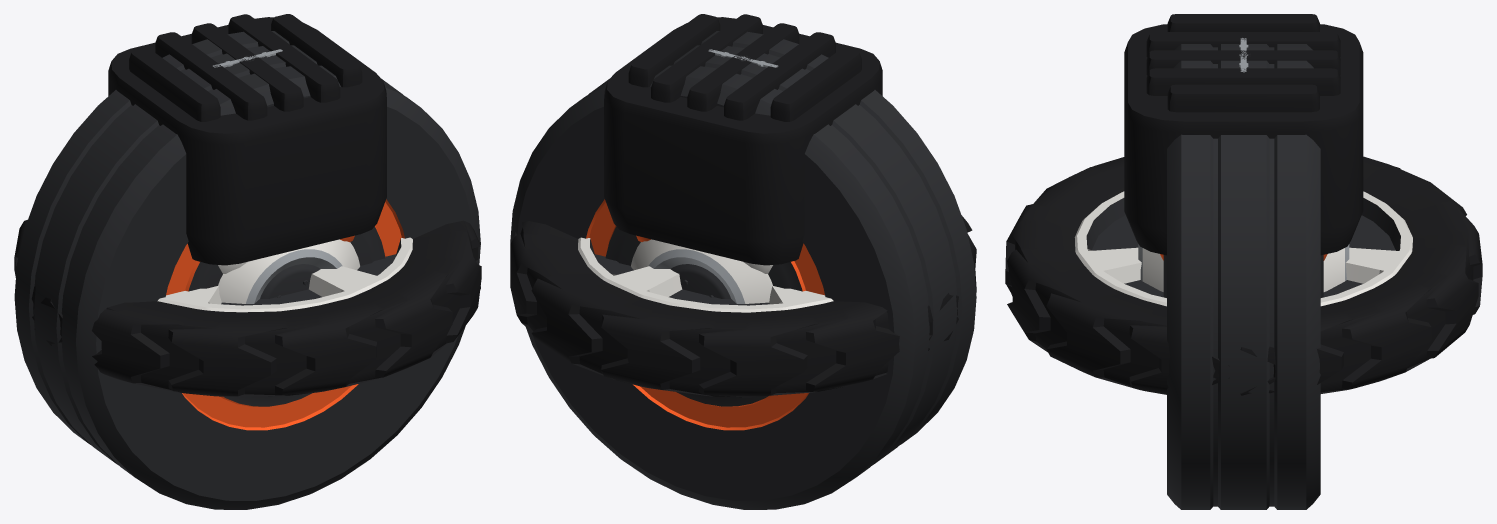
File: kit.glb
3 views of the same model, side by side, from view 1: azimuth 30°, elevation 25°; view 2: azimuth 150°, elevation 25°; view 3: azimuth 270°, elevation 25° (orthographic). The views are drawn at different scales.
Parts seen in each view (by area): view 1: joint, foot, wheel, core_orb; view 2: joint, foot, wheel, core_orb; view 3: joint, wheel, foot, core_orb.
Boxes of the visible parts, bbox=[...] form: joint: bbox=[14, 31, 480, 509]; foot: bbox=[108, 14, 386, 273]; wheel: bbox=[14, 219, 481, 396]; core_orb: bbox=[218, 239, 359, 303]; joint: bbox=[510, 31, 976, 509]; foot: bbox=[604, 14, 882, 273]; wheel: bbox=[510, 215, 976, 397]; core_orb: bbox=[631, 239, 772, 303]; joint: bbox=[1163, 44, 1323, 509]; wheel: bbox=[1005, 156, 1482, 395]; foot: bbox=[1124, 14, 1363, 260]; core_orb: bbox=[1138, 244, 1349, 291].
Size of the model in its own units: 2 by 2 by 2.
